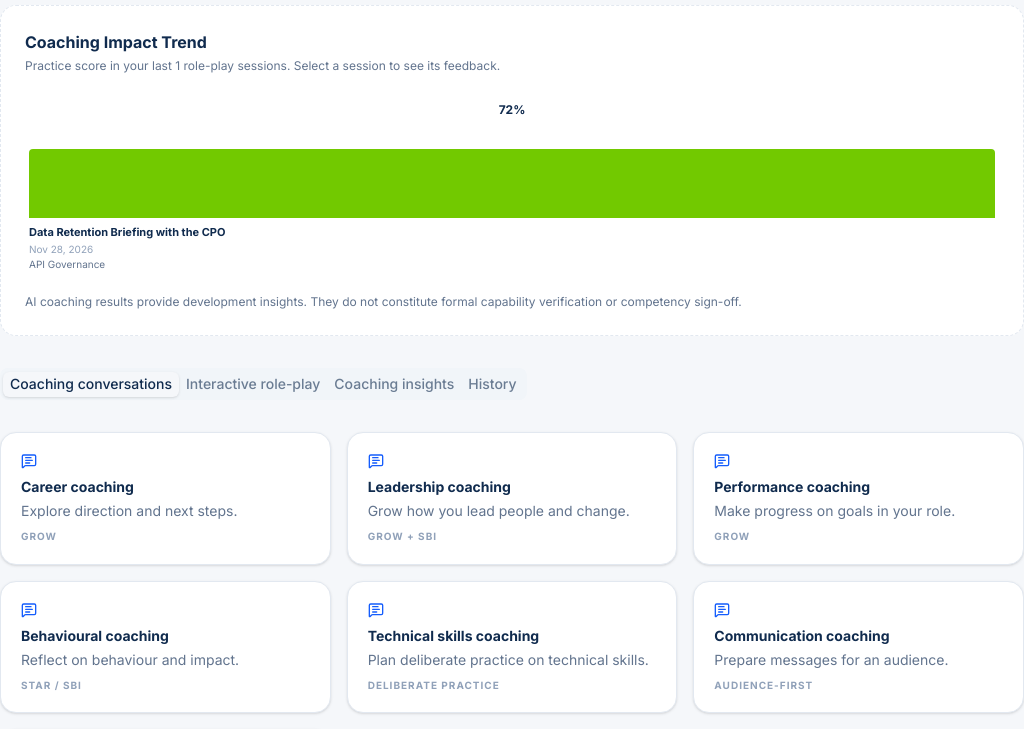
Scenario: AI Coaching dashboard › recommends a next action and shows the trend and insights from real sessions
(page scrolled)
Check: the text "Data Retention Briefing with the CPO" is shown, box [29, 225, 225, 239]
Check: the text "72%" is shown, box [499, 102, 525, 117]
What coordinates should you click on to do the following:
click the tab "Coaching insights"
I would click on:
 (394, 384)
Its box is [327, 372, 461, 397].
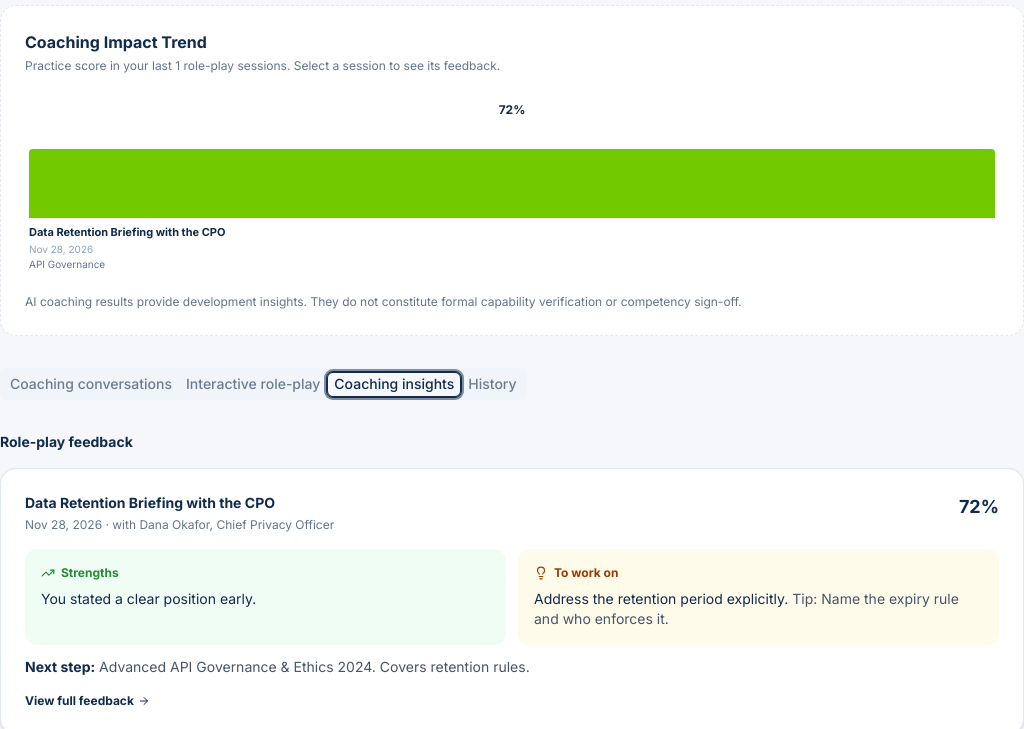
Check: the heading "Role-play feedback" is shown, box [0, 433, 133, 450]
Check: the text "Strengths" is shown, box [41, 565, 119, 580]
